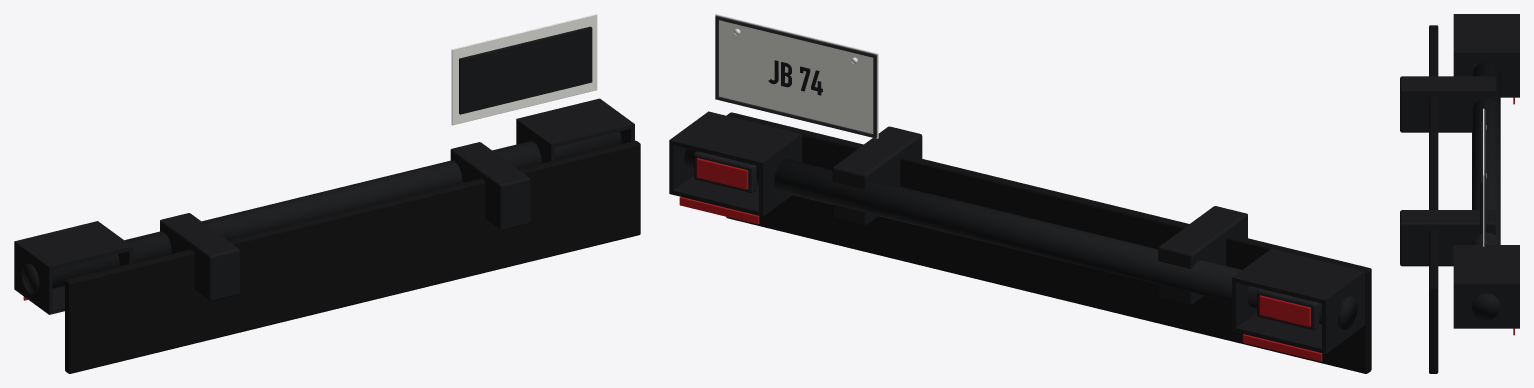
Rendered from rearBumper_showa_iron_rear.glb.
The picture shows the model from 3 angles, left to right: view 1: azimuth 30°, elevation 25°; view 2: azimuth 150°, elevation 25°; view 3: azimuth 270°, elevation 25°; orthographic projection. The views are drawn at different scales.
Visible parts, largest first — view 1: valance.030, bar.008, plateBracket.002, mount1.030, mount-1.030, plate.037, lampFrame1Wall0, lampFrame-1Wall0, lampFrame-1Wall3, lampFrame1Wall3; view 2: valance.030, bar.008, plate.037, mount-1.030, mount1.030, lampFrame-1Wall0, lampFrame1Wall0, lampFrame-1Wall2, lampFrame1Wall2, lampFrame-1Wall3, lampFrame1Wall3, lampLens1.002 (+10 smaller); view 3: mount-1.030, mount1.030, bar.008, valance.030, lampFrame1Wall1, lampFrame-1Wall0, lampFrame1Wall0, lampFrame-1Wall1, cap1.035, plateBracket.002, plate.037, plateRim35_3 (+3 smaller).
Boxes of the visible parts, x1=… form: valance.030: x1=65, y1=140, x2=640, y2=373; bar.008: x1=29, y1=131, x2=621, y2=292; plateBracket.002: x1=459, y1=26, x2=592, y2=114; mount1.030: x1=450, y1=142, x2=530, y2=230; mount-1.030: x1=160, y1=213, x2=239, y2=301; plate.037: x1=451, y1=14, x2=597, y2=125; lampFrame1Wall0: x1=516, y1=99, x2=631, y2=147; lampFrame-1Wall0: x1=15, y1=222, x2=129, y2=269; lampFrame-1Wall3: x1=14, y1=240, x2=52, y2=314; lampFrame1Wall3: x1=516, y1=118, x2=554, y2=163; valance.030: x1=726, y1=112, x2=1371, y2=373; bar.008: x1=684, y1=148, x2=1350, y2=328; plate.037: x1=715, y1=14, x2=878, y2=138; mount-1.030: x1=1158, y1=206, x2=1247, y2=305; mount1.030: x1=832, y1=126, x2=922, y2=225; lampFrame-1Wall0: x1=1234, y1=250, x2=1365, y2=303; lampFrame1Wall0: x1=669, y1=112, x2=802, y2=166; lampFrame-1Wall2: x1=1232, y1=313, x2=1365, y2=353; lampFrame1Wall2: x1=669, y1=176, x2=791, y2=216; lampFrame-1Wall3: x1=1322, y1=270, x2=1365, y2=353; lampFrame1Wall3: x1=759, y1=133, x2=802, y2=216; lampLens1.002: x1=696, y1=158, x2=748, y2=189; mount-1.030: x1=1400, y1=76, x2=1495, y2=132; mount1.030: x1=1400, y1=210, x2=1495, y2=266; bar.008: x1=1472, y1=62, x2=1500, y2=301; valance.030: x1=1429, y1=25, x2=1438, y2=373; lampFrame1Wall1: x1=1453, y1=282, x2=1519, y2=328; lampFrame-1Wall0: x1=1453, y1=15, x2=1519, y2=50; lampFrame1Wall0: x1=1453, y1=246, x2=1519, y2=281; lampFrame-1Wall1: x1=1453, y1=51, x2=1519, y2=97; cap1.035: x1=1472, y1=293, x2=1500, y2=320; plateBracket.002: x1=1480, y1=121, x2=1482, y2=233; plate.037: x1=1483, y1=108, x2=1484, y2=246; plateRim35_3: x1=1484, y1=176, x2=1485, y2=245.
Size of the model in its own units: 1.34 by 0.4425 by 0.25.
